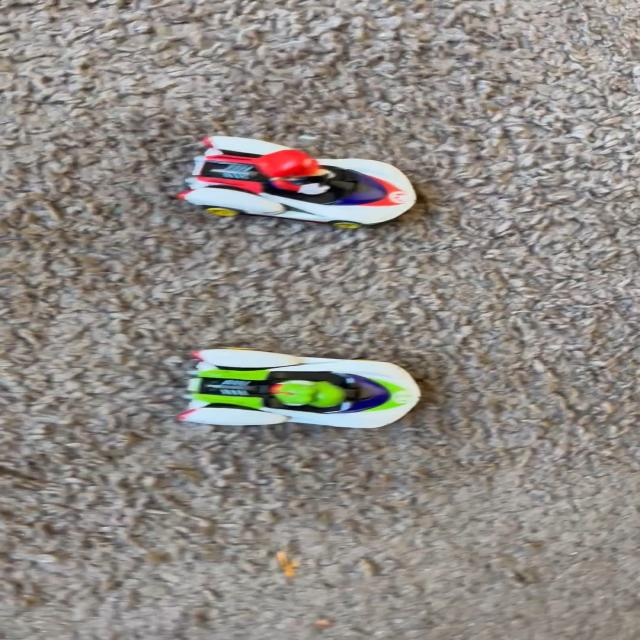mario: (178, 126, 429, 231)
yoshi: (167, 329, 442, 444)
